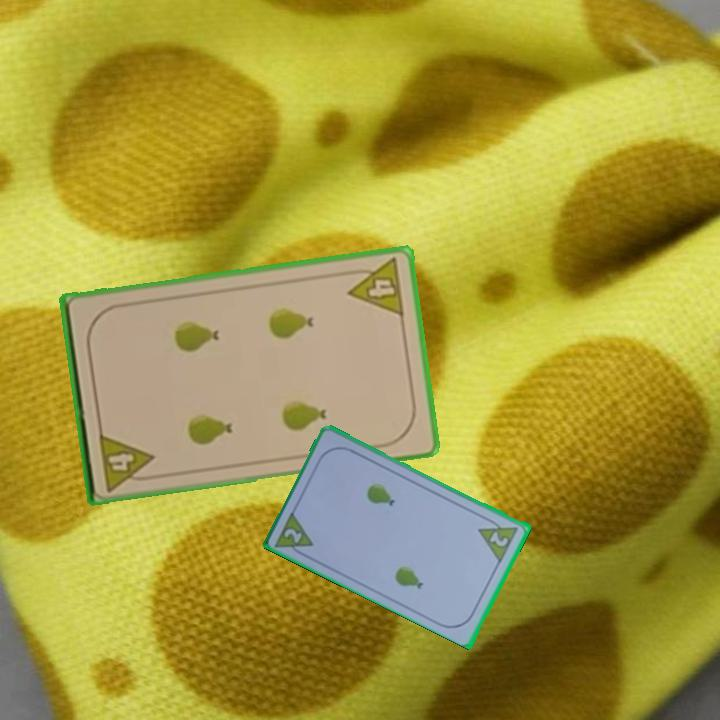2p: (272, 507, 317, 561), (475, 513, 522, 564)
4p: (342, 255, 407, 320), (95, 429, 158, 494)
